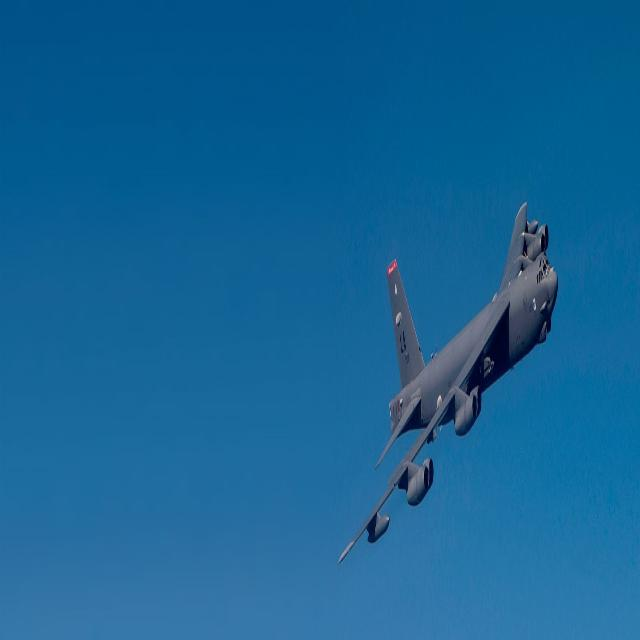B52: (337, 122, 566, 608)
